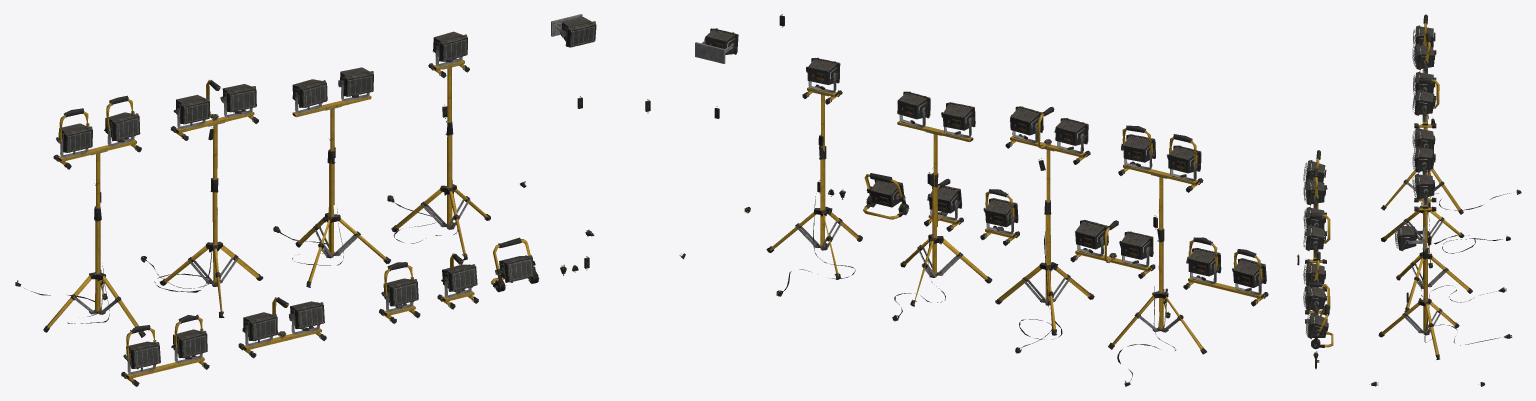
File: ph_flood_lights.glb
3 views of the same model, side by side, from view 1: azimuth 30°, elevation 25°; view 2: azimuth 150°, elevation 25°; view 3: azimuth 270°, elevation 25° (orthographic). The views are drawn at different scales.
Visible parts, largest first — view 1: flood_lights_cable_a_geo; view 2: flood_lights_cable_a_geo; view 3: flood_lights_cable_a_geo.
Boxes of the visible parts, x1,y1,x2,y2 form: flood_lights_cable_a_geo: [15, 14, 650, 386]; flood_lights_cable_a_geo: [679, 14, 1268, 386]; flood_lights_cable_a_geo: [1297, 14, 1521, 386].
Bounding box in the file's own units: 4.58 × 1.8 × 2.05.
Materials: 2 (2 with a texture image).
